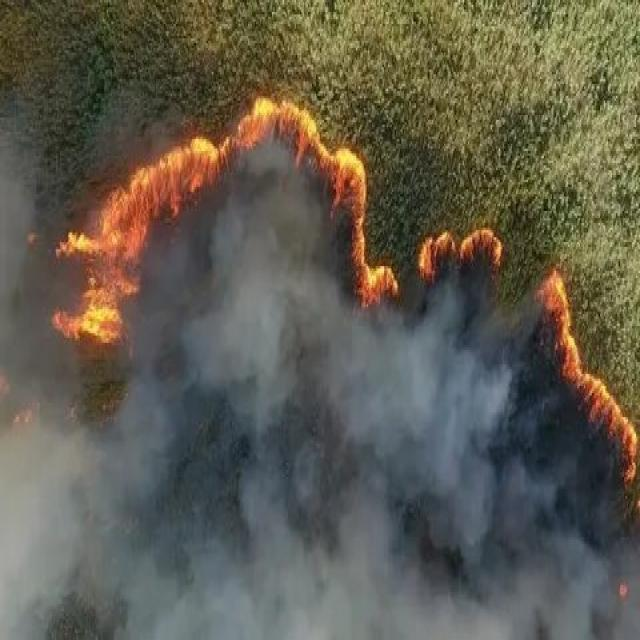Fire: (139, 37, 435, 320), (488, 231, 640, 568), (15, 177, 170, 385)
